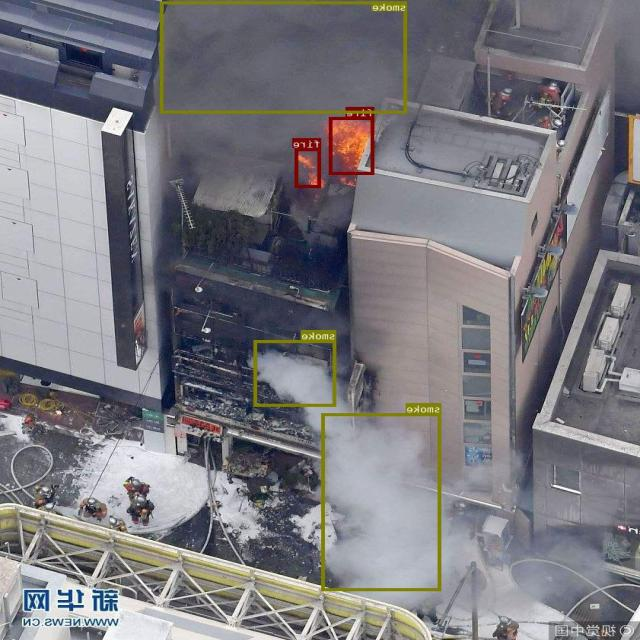fire: (330, 117, 375, 174), (296, 148, 322, 187)
smoke: (161, 1, 408, 112), (322, 412, 442, 590), (255, 340, 337, 406)
